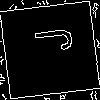J: (25, 25, 74, 55)
